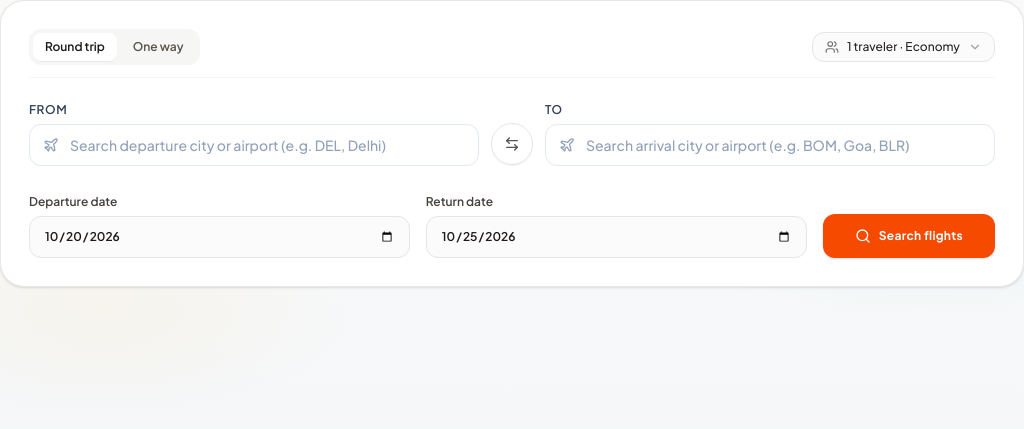
DashTiny L2 — Flight Search Frontend Components › 1. FlightSearchForm › rejects origin === destination with client-side validation error
This screenshot has width=1024, height=429.
Click the button "Search flights" at (909, 236), box [823, 214, 995, 258]
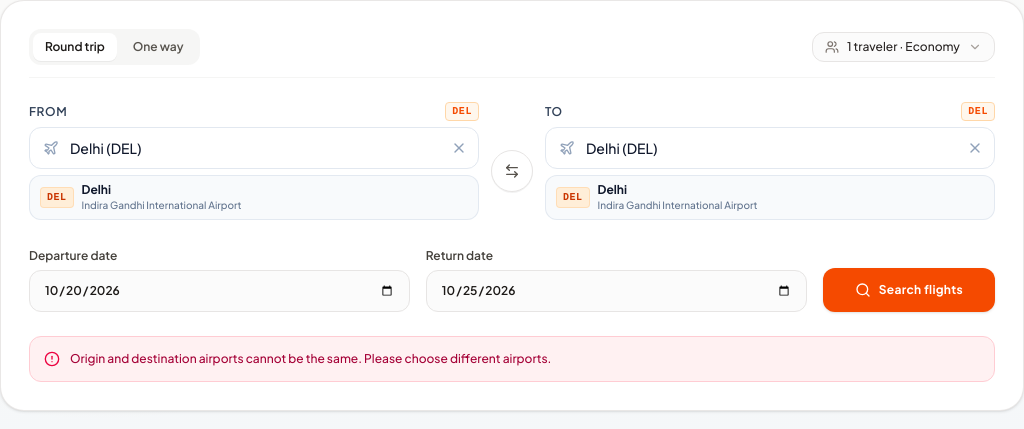
Expected: the text "Origin and destination airports cannot be the same" is shown, [70, 351, 551, 366]
